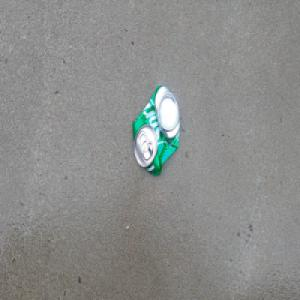SodaCan: (130, 82, 181, 178)
